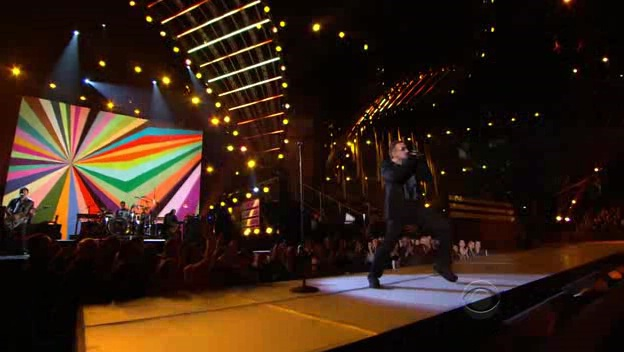person: (378, 141, 435, 241), (375, 141, 432, 241), (381, 141, 438, 241), (378, 138, 435, 238), (378, 144, 435, 244)
target_negative: (103, 241, 423, 337), (34, 242, 424, 291), (114, 82, 294, 112), (597, 23, 610, 240), (497, 265, 569, 297), (41, 303, 435, 305)
